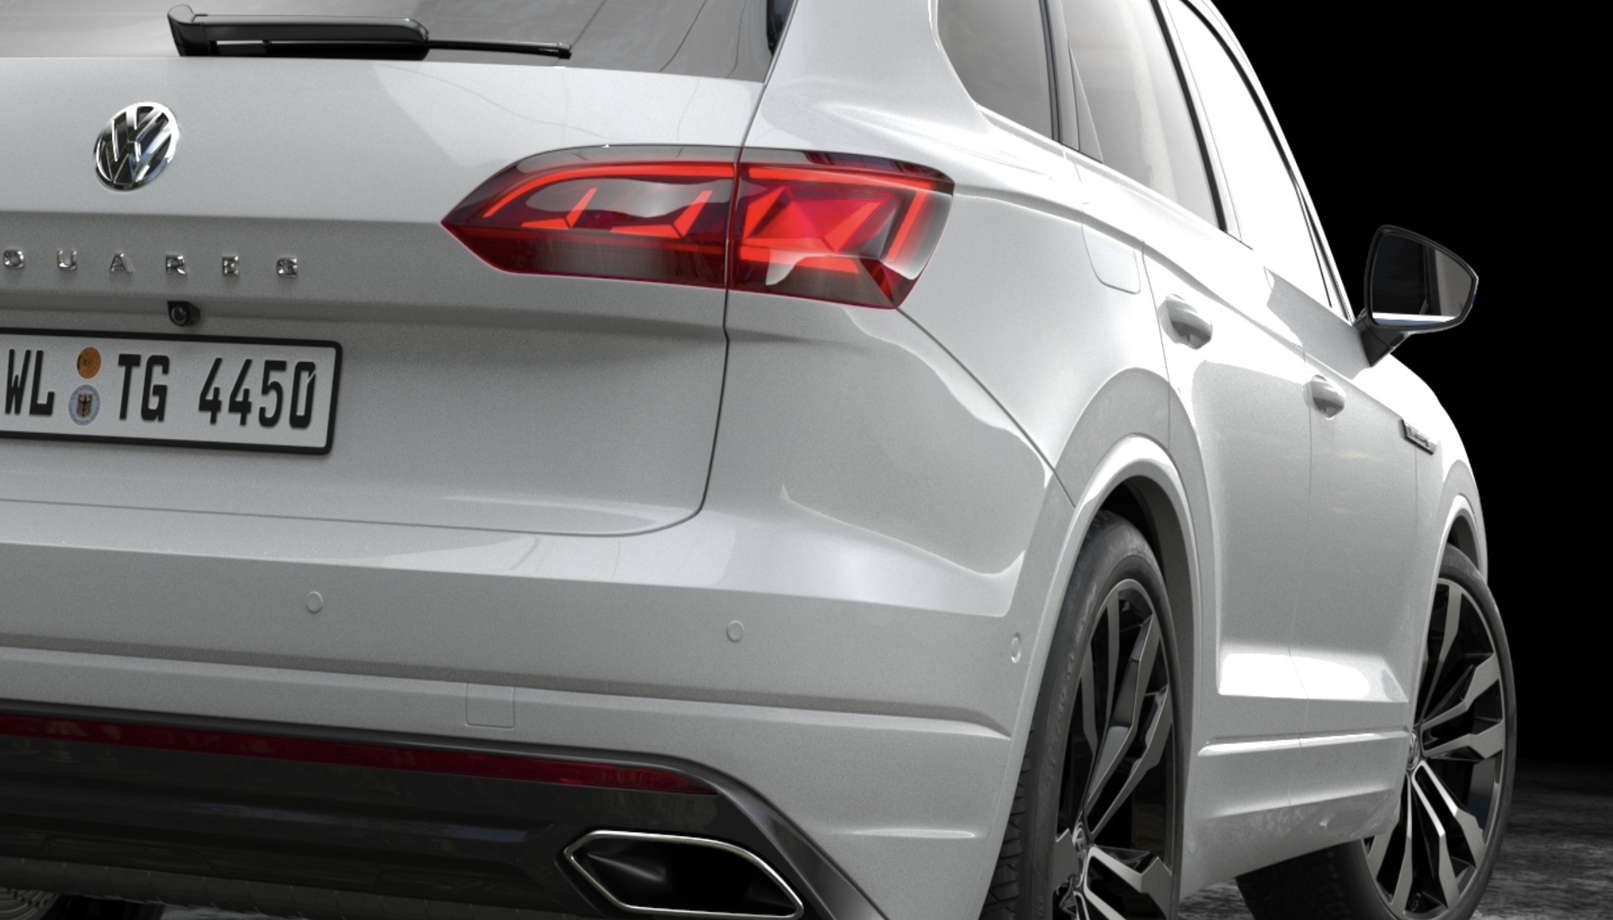hatch: (1077, 193, 1152, 307)
